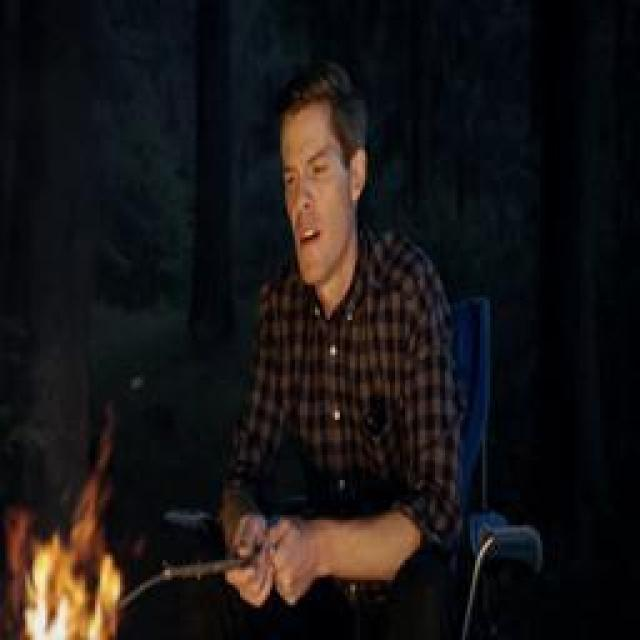Fire: (9, 407, 122, 640)
